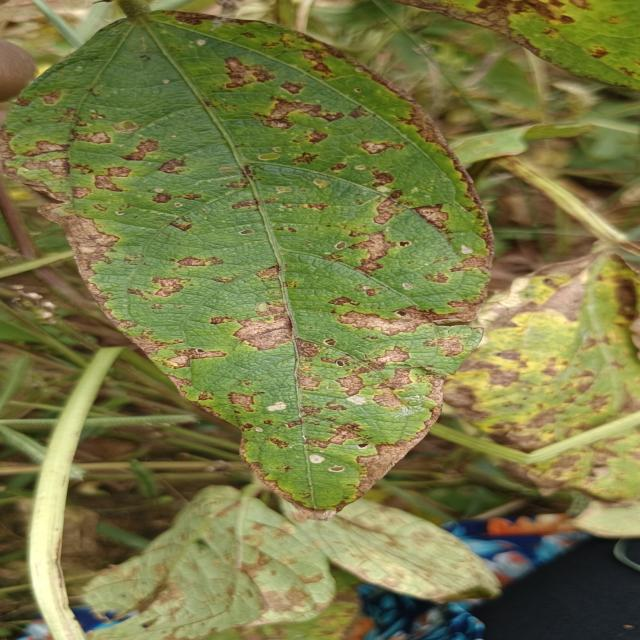Black gram_leaf spot: (0, 5, 515, 513), (412, 231, 640, 536)
